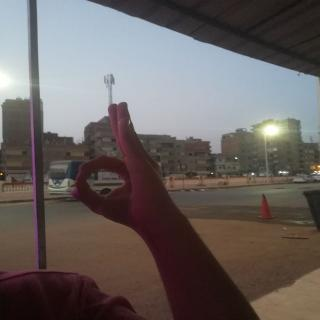Space: (63, 100, 179, 232)
